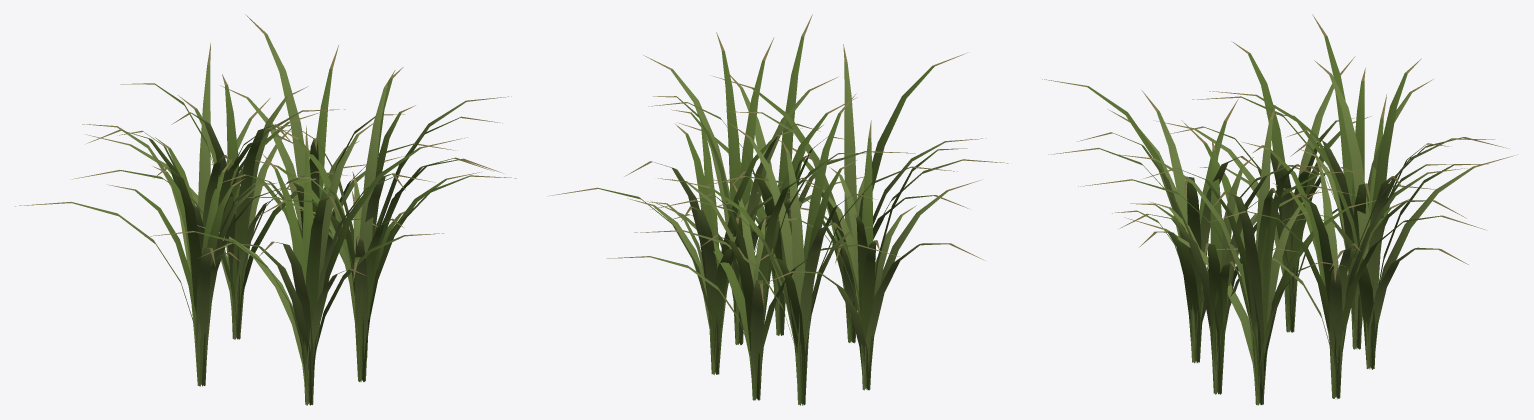
The model's file is grass.glb.
3 views of the same model, side by side, from view 1: azimuth 30°, elevation 25°; view 2: azimuth 150°, elevation 25°; view 3: azimuth 270°, elevation 25° (orthographic). The views are drawn at different scales.
Visible parts, largest first — view 1: MV_grass; view 2: MV_grass; view 3: MV_grass.
Part boxes in pixels (x1=…): MV_grass: x1=15, y1=14, x2=516, y2=405; MV_grass: x1=547, y1=14, x2=1008, y2=405; MV_grass: x1=1042, y1=14, x2=1517, y2=405.
Bounding box in the file's own units: 0.7382 × 0.43 × 0.7036.
